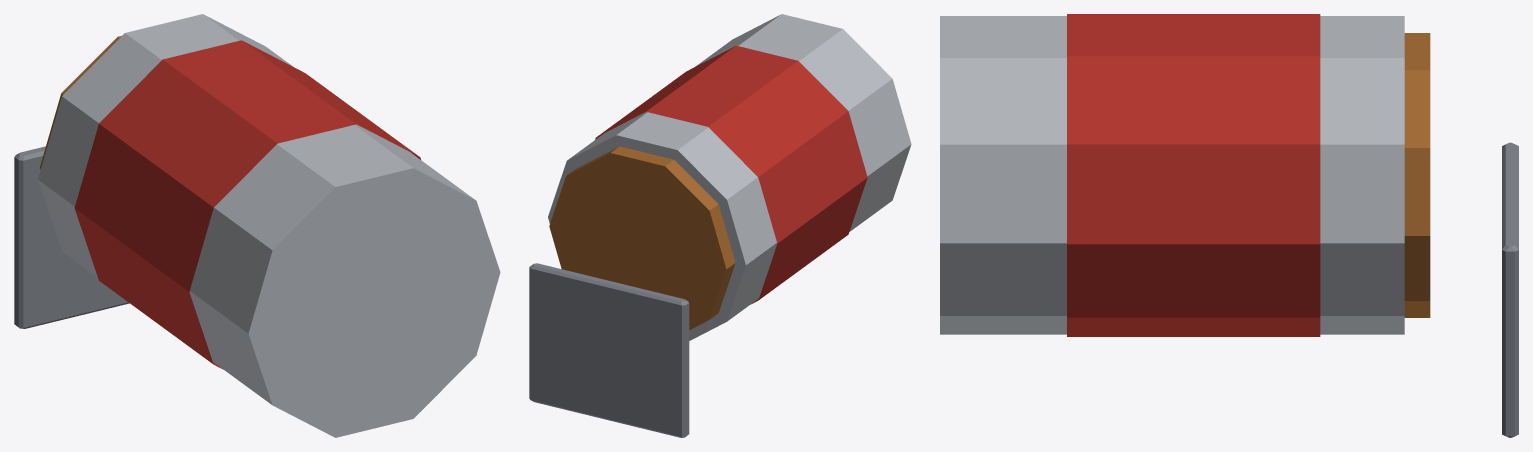
The model's file is SM_FP_Item_Cibo.glb.
The picture shows the model from 3 angles, left to right: view 1: azimuth 30°, elevation 25°; view 2: azimuth 150°, elevation 25°; view 3: azimuth 270°, elevation 25°; orthographic projection. The views are drawn at different scales.
Visible parts, largest first — view 1: SM_FP_Item_Cibo; view 2: SM_FP_Item_Cibo; view 3: SM_FP_Item_Cibo.
Part boxes in pixels (x1,y1,x2,y2): SM_FP_Item_Cibo: (14, 14, 500, 437); SM_FP_Item_Cibo: (529, 14, 911, 437); SM_FP_Item_Cibo: (940, 14, 1518, 437).
Size of the model in its own units: 0.077 by 0.0916 by 0.137.
Materials: 1 (1 with a texture image).
